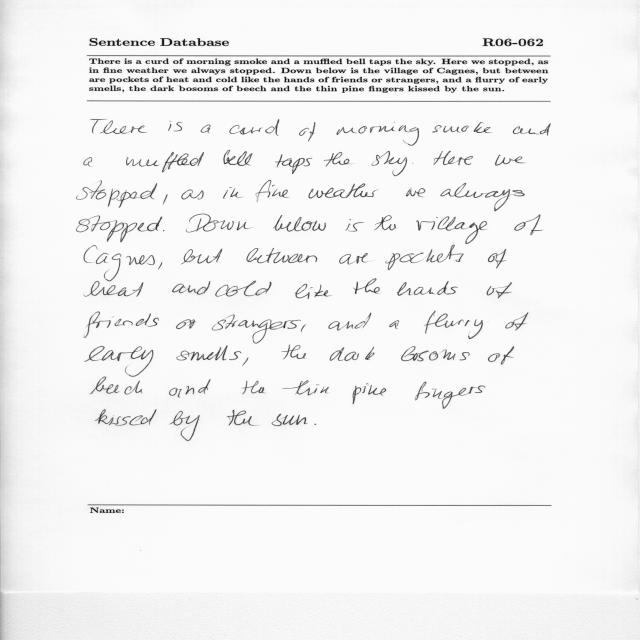word: (212, 315, 301, 344), (84, 245, 155, 281), (440, 183, 525, 211), (77, 180, 158, 208), (77, 216, 163, 242), (85, 346, 153, 377), (84, 311, 159, 338), (336, 122, 419, 146), (416, 216, 487, 244), (385, 245, 464, 270), (415, 382, 485, 409), (424, 311, 483, 339), (126, 152, 204, 172), (186, 214, 251, 232), (247, 248, 318, 263), (309, 184, 378, 199), (401, 346, 470, 361), (96, 410, 157, 426), (177, 346, 242, 361), (84, 281, 144, 297), (397, 281, 458, 296), (215, 281, 272, 297), (273, 215, 326, 232), (170, 411, 200, 441), (90, 377, 142, 394), (372, 151, 407, 176), (230, 119, 280, 136), (91, 119, 147, 134), (169, 379, 211, 398), (329, 313, 372, 331), (282, 380, 329, 396), (275, 154, 312, 174), (353, 383, 387, 404), (181, 249, 223, 265), (432, 122, 492, 133), (330, 347, 374, 361), (256, 181, 289, 199), (515, 215, 543, 236), (433, 151, 473, 165), (295, 284, 331, 299), (173, 281, 211, 295), (513, 123, 551, 136), (488, 347, 514, 365), (224, 150, 253, 166), (227, 410, 257, 425), (272, 414, 307, 426), (506, 313, 529, 331), (324, 152, 351, 167), (353, 279, 380, 294), (487, 283, 512, 299), (374, 216, 397, 231), (488, 249, 506, 268), (495, 155, 526, 166), (282, 345, 306, 359), (241, 381, 266, 394), (299, 122, 315, 142), (339, 253, 368, 264), (345, 219, 364, 232), (181, 190, 204, 200), (223, 187, 242, 199), (176, 319, 196, 329), (406, 188, 426, 197), (168, 121, 182, 131), (389, 320, 399, 329), (201, 125, 211, 133), (84, 157, 92, 167), (163, 194, 168, 205), (243, 357, 249, 366), (301, 324, 306, 332), (158, 263, 162, 270), (315, 424, 317, 425), (412, 163, 413, 164), (163, 230, 164, 231)
